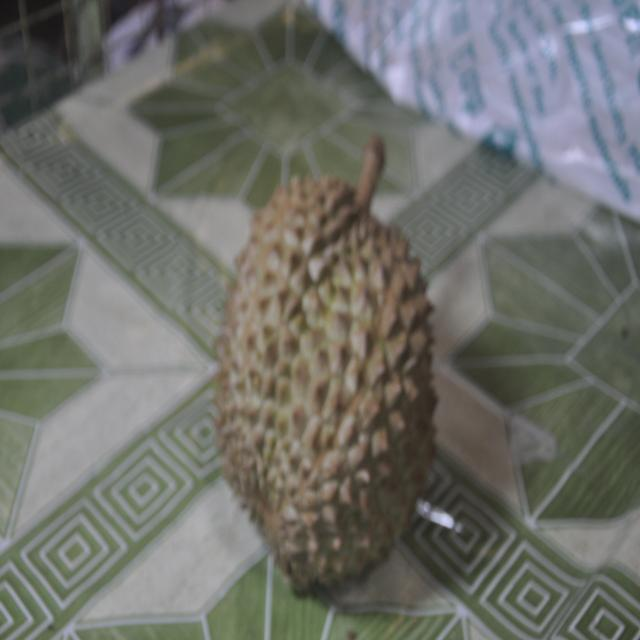mature: (204, 119, 448, 613)
